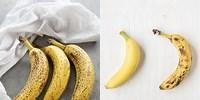banana: (152, 22, 194, 90), (104, 30, 142, 88), (64, 37, 92, 100), (19, 42, 48, 100), (45, 42, 70, 100)
